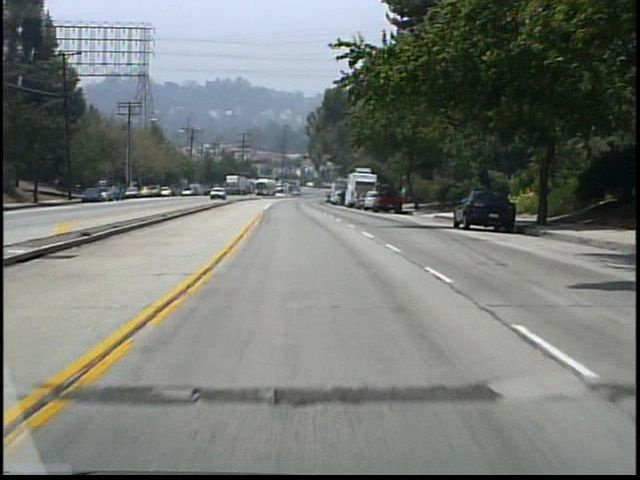person: (396, 183, 408, 209)
